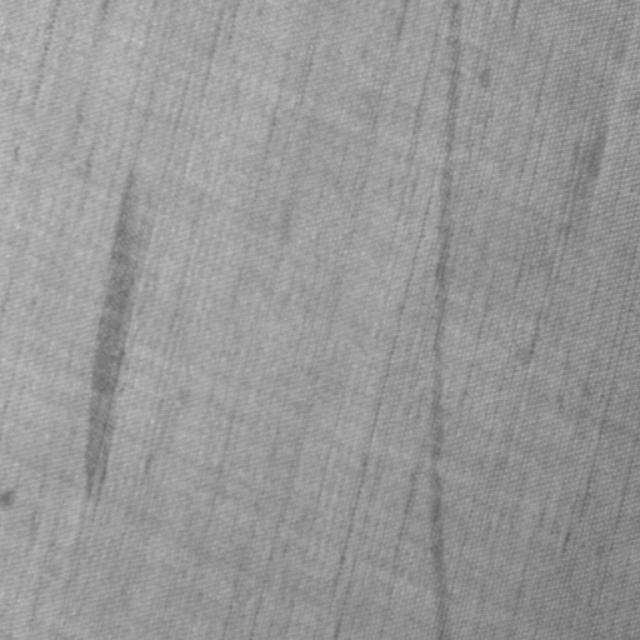oil spot: (428, 0, 468, 631), (79, 165, 150, 507)
